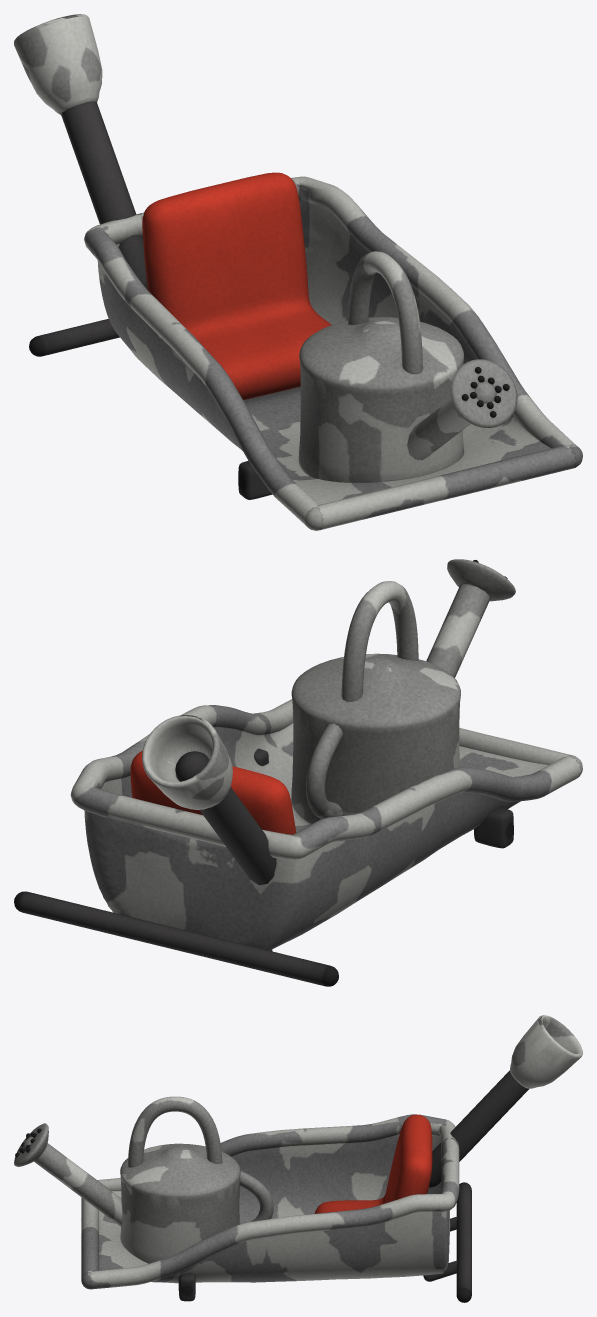
3 views of the same model, one above another, from view 1: azimuth 30°, elevation 25°; view 2: azimuth 150°, elevation 25°; view 3: azimuth 270°, elevation 25° (orthographic). The views are drawn at different scales.
Parts seen in each view (by area): view 1: body, steer_handle; view 2: body, steer_handle; view 3: body, steer_handle.
Boxes of the visible parts, box(x1,y1,x2,y2) form: body: box(14, 14, 582, 530); steer_handle: box(348, 251, 422, 373); body: box(14, 559, 582, 986); steer_handle: box(341, 581, 418, 701); body: box(14, 1015, 582, 1302); steer_handle: box(128, 1096, 222, 1167).
Size of the model in its own units: 0.7643 by 0.688 by 1.64.
Materials: 1 (1 with a texture image).
